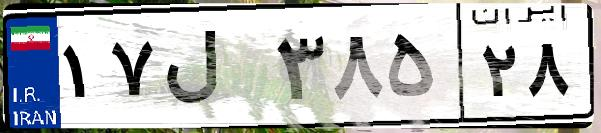1: (57, 26, 110, 100)
2: (475, 38, 525, 113)
3: (270, 28, 330, 110)
5: (385, 28, 445, 110)
7: (110, 28, 158, 98)
8: (330, 28, 385, 110), (525, 38, 570, 115)
ل: (158, 20, 270, 120)
